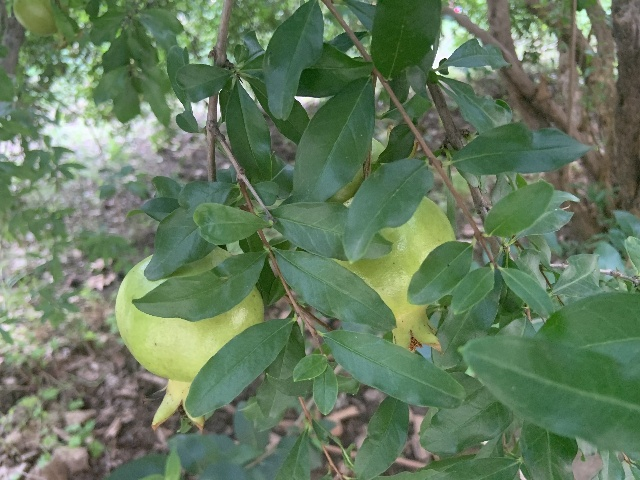mid-growth: (115, 246, 265, 430), (336, 194, 458, 351)
